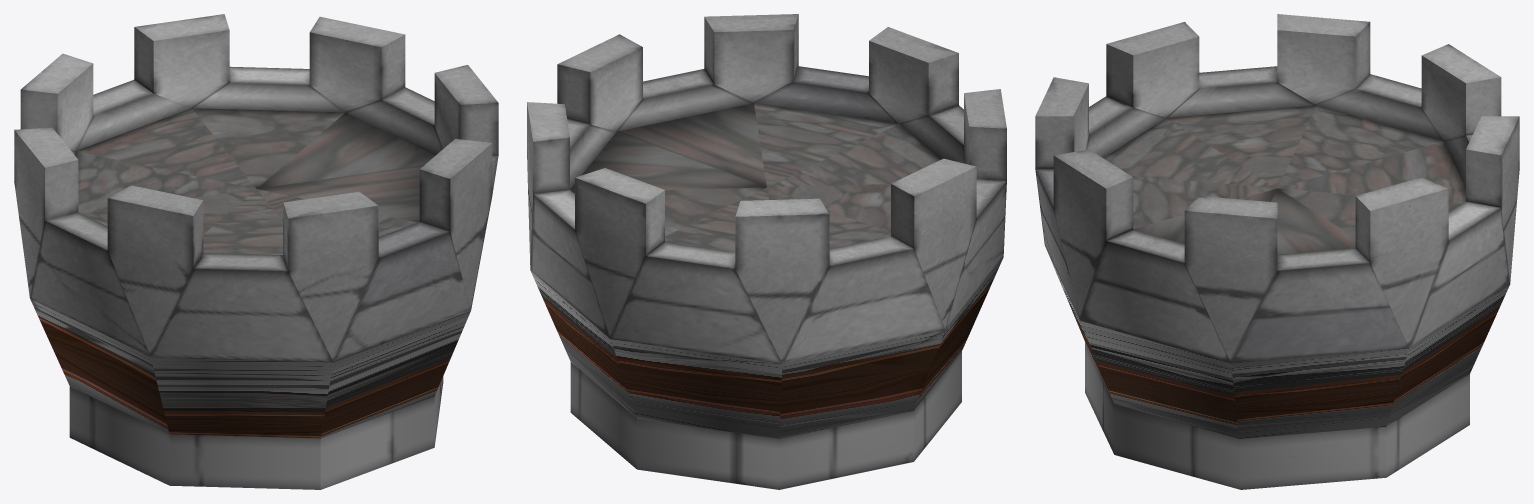
Rendered from sb_obj_outdoor001_Castle01_CircleWallTop02_col.fbx.
The picture shows the model from 3 angles, left to right: view 1: azimuth 30°, elevation 25°; view 2: azimuth 150°, elevation 25°; view 3: azimuth 270°, elevation 25°; orthographic projection.
Visible parts, largest first — view 1: sb_obj_outdoor001_Castle01_CircleWallTop02_col; view 2: sb_obj_outdoor001_Castle01_CircleWallTop02_col; view 3: sb_obj_outdoor001_Castle01_CircleWallTop02_col.
Part boxes in pixels (x1,y1,x2,y2): sb_obj_outdoor001_Castle01_CircleWallTop02_col: [14, 14, 498, 489]; sb_obj_outdoor001_Castle01_CircleWallTop02_col: [527, 14, 1006, 489]; sb_obj_outdoor001_Castle01_CircleWallTop02_col: [1035, 14, 1519, 489].
Bounding box in the file's own units: 3.83 × 2.55 × 3.83.
